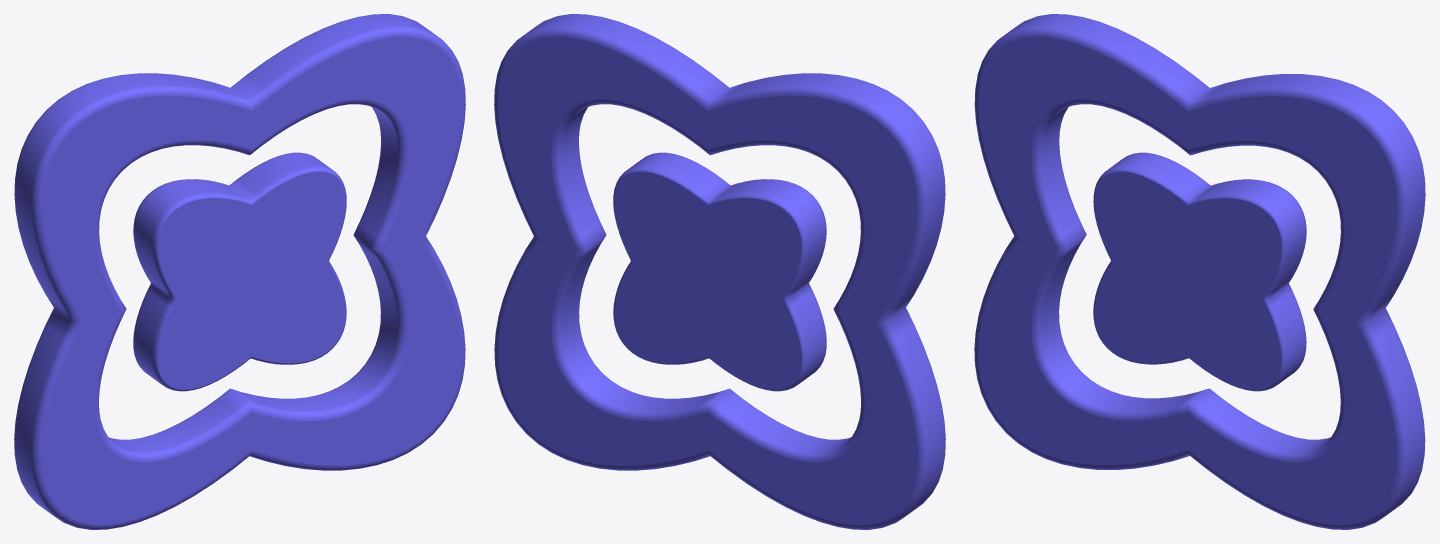
Rendered from save2.fbx.
3 renders of one model, left to right at view 1: azimuth 30°, elevation 25°; view 2: azimuth 150°, elevation 25°; view 3: azimuth 330°, elevation 25°, orthographic.
Parts seen in each view (by area): view 1: Curve.001, Curve.002; view 2: Curve.001, Curve.002; view 3: Curve.001, Curve.002.
Boxes of the visible parts, x1=… form: Curve.001: x1=14, y1=14, x2=465, y2=529; Curve.002: x1=133, y1=152, x2=346, y2=391; Curve.001: x1=494, y1=14, x2=945, y2=529; Curve.002: x1=613, y1=152, x2=826, y2=391; Curve.001: x1=974, y1=14, x2=1425, y2=529; Curve.002: x1=1093, y1=152, x2=1306, y2=391.
Bounding box in the file's own units: 4.08 × 3.92 × 0.3894.
